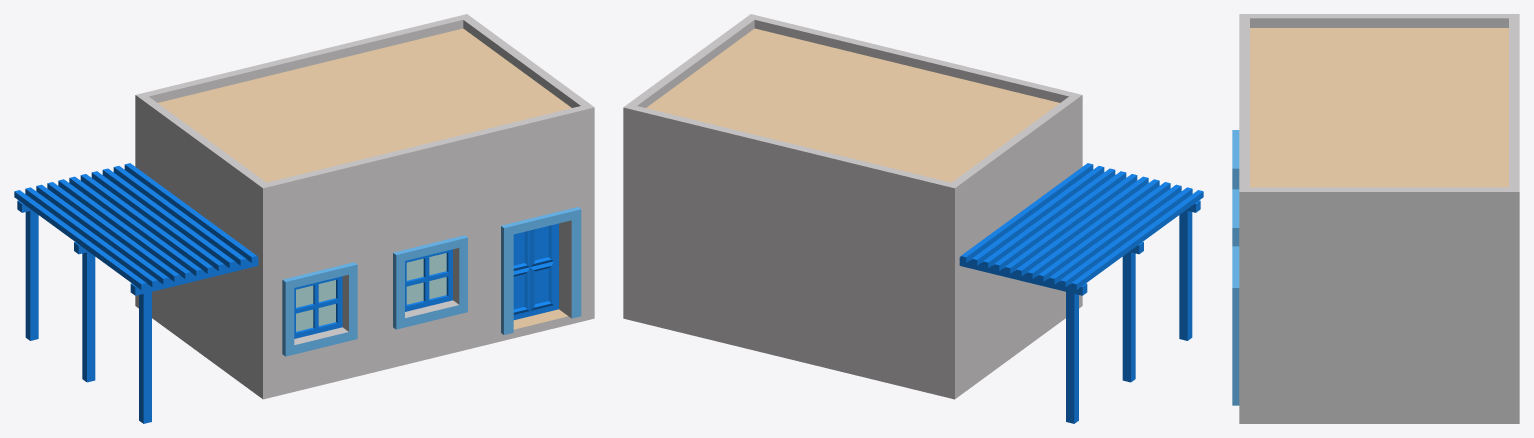
File: house_02a.fbx
The picture shows the model from 3 angles, left to right: view 1: azimuth 30°, elevation 25°; view 2: azimuth 150°, elevation 25°; view 3: azimuth 270°, elevation 25°; orthographic projection. The views are drawn at different scales.
Parts seen in each view (by area): view 1: house_02a; view 2: house_02a; view 3: house_02a.
Boxes of the visible parts, <box> form: house_02a: <box>14,14,594,423</box>; house_02a: <box>623,14,1203,423</box>; house_02a: <box>1232,14,1519,423</box>.
Size of the model in its own units: 822 by 365 by 410.
